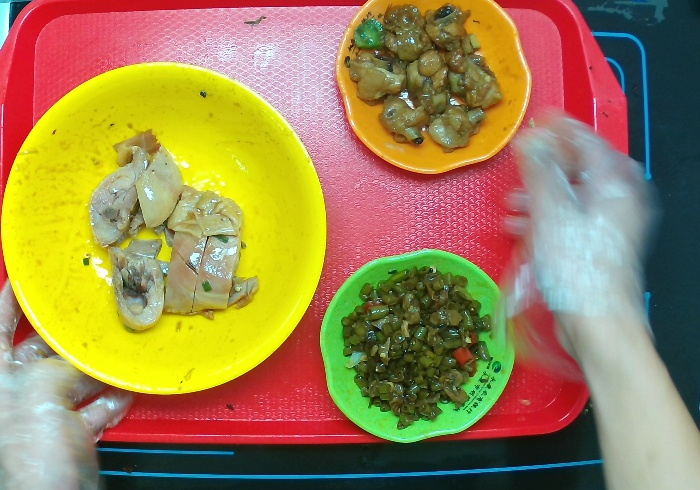YKMZ-Huang_Se_Tang_Wan: (1, 58, 333, 393)
YKMZ-Ju_Se_Ao_Bian_Wan: (337, 1, 534, 169)
YKMZ-Lv_Se_Ao_Bian_Wan: (321, 247, 514, 442)
